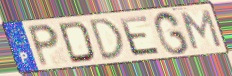D: (88, 16, 127, 63), (57, 20, 97, 65)
E: (117, 14, 163, 58)
G: (152, 10, 192, 57)
M: (179, 9, 224, 51)
P: (25, 22, 61, 69)
